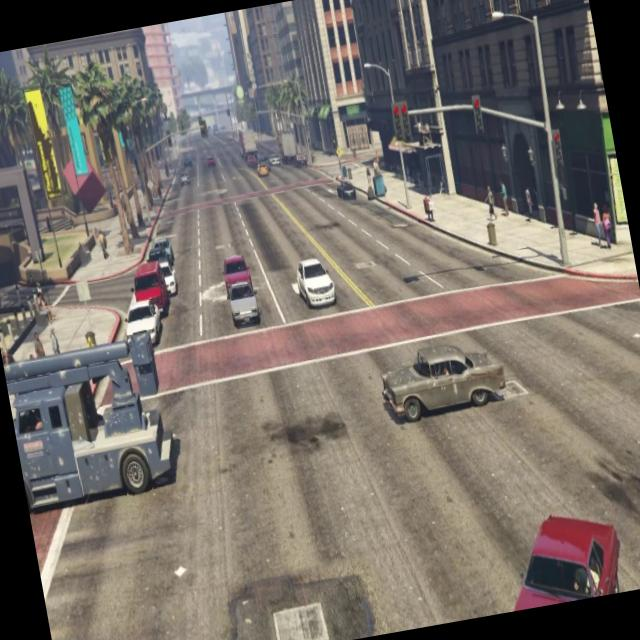Red-Signal: (387, 91, 418, 153), (464, 87, 490, 141), (548, 122, 569, 174)
